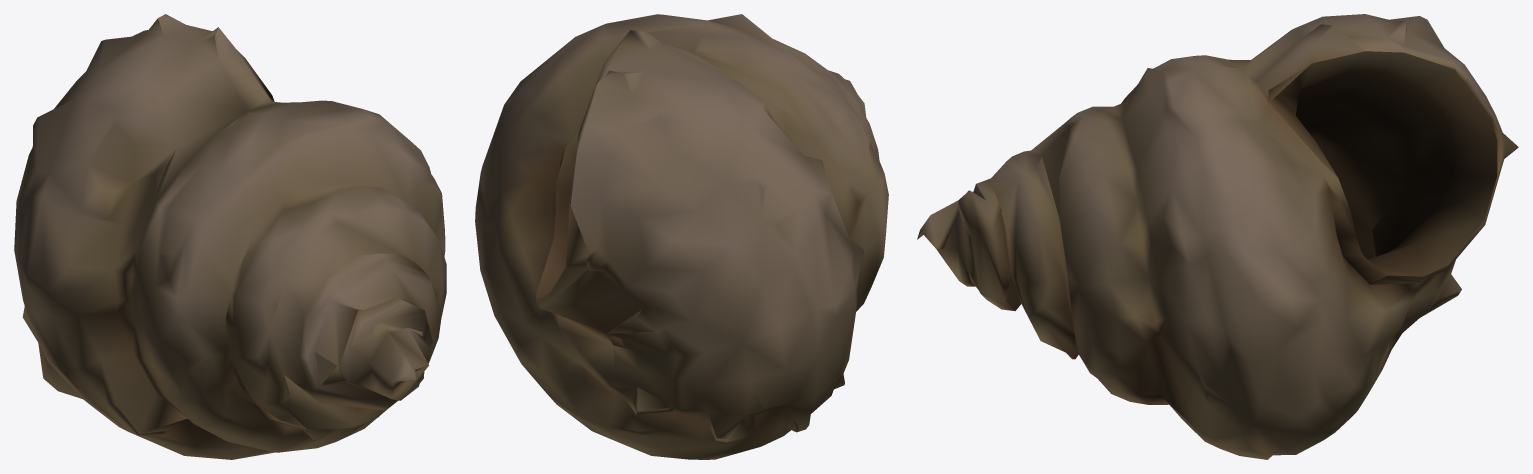
File: underwater-shells-whelk-shell_v1.glb
3 renders of one model, left to right at view 1: azimuth 30°, elevation 25°; view 2: azimuth 150°, elevation 25°; view 3: azimuth 270°, elevation 25°, orthographic. The views are drawn at different scales.
Visible parts, largest first — view 1: Whelk Shell_v1; view 2: Whelk Shell_v1; view 3: Whelk Shell_v1.
Part boxes in pixels (x1,y1,x2,y2): Whelk Shell_v1: (14,14,446,459); Whelk Shell_v1: (475,14,888,459); Whelk Shell_v1: (917,14,1518,459).
Bounding box in the file's own units: 0.0578 × 0.0613 × 0.08.
